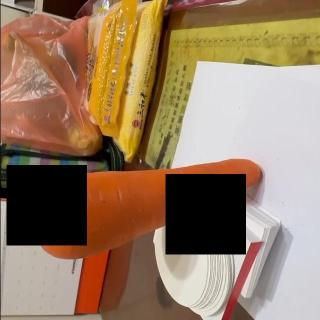carrot: (12, 158, 264, 260)
